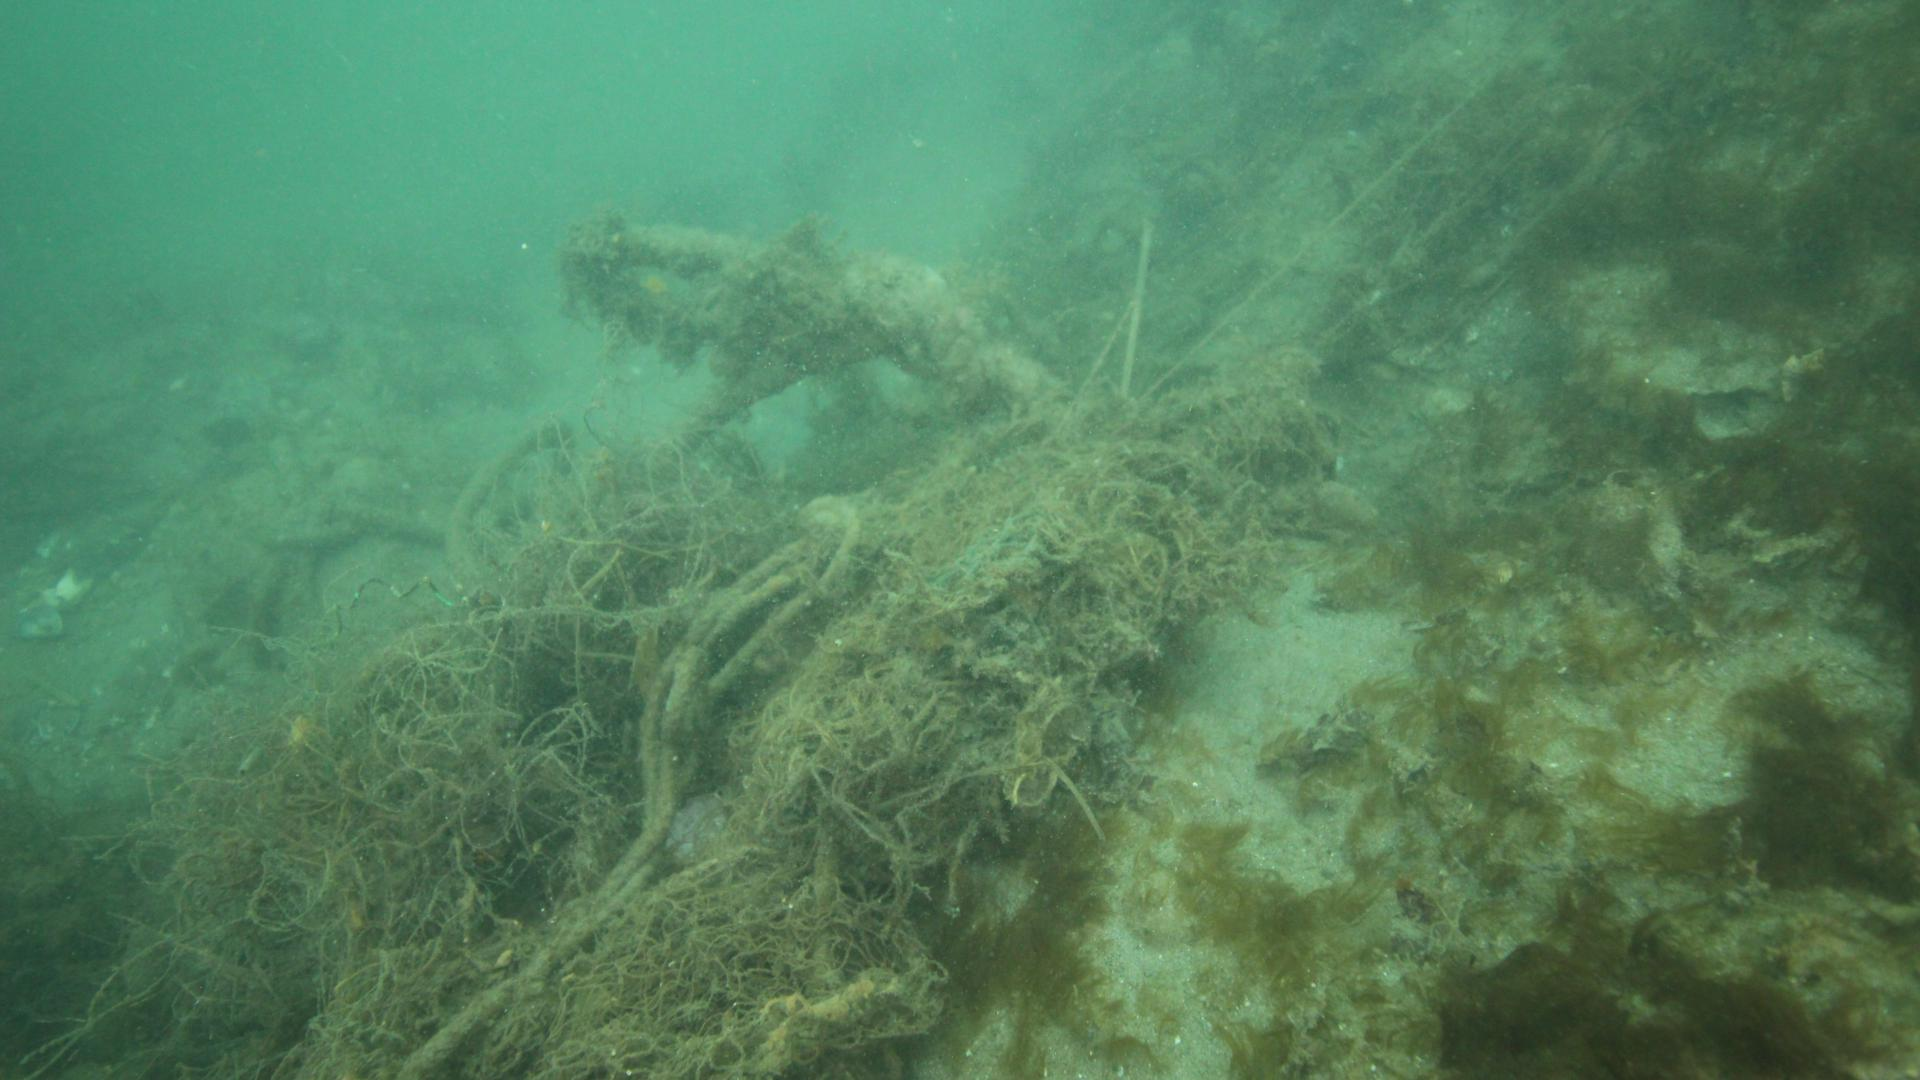bundle of ropes: (393, 417, 862, 1080)
